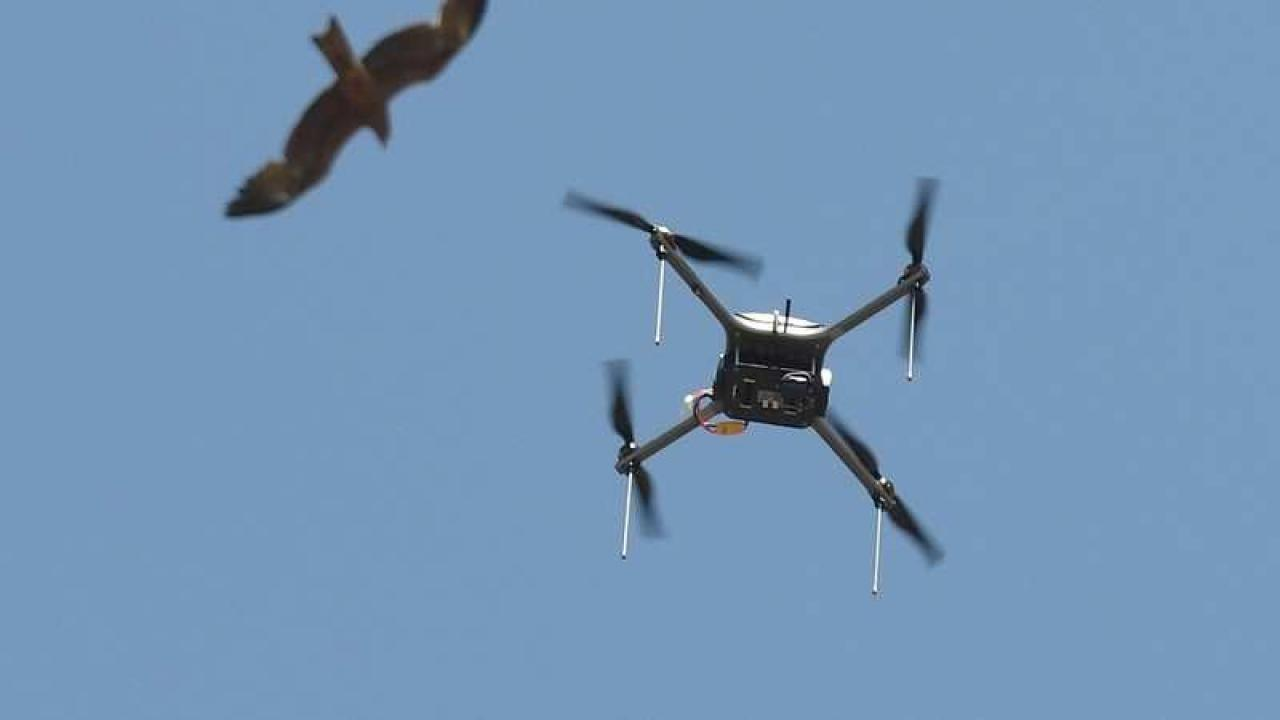Bird: (207, 0, 493, 227)
Drone: (549, 170, 973, 604)
